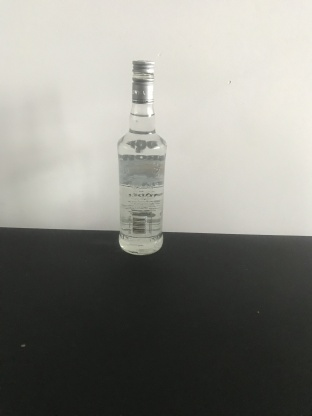nakretka: (130, 58, 155, 104)
